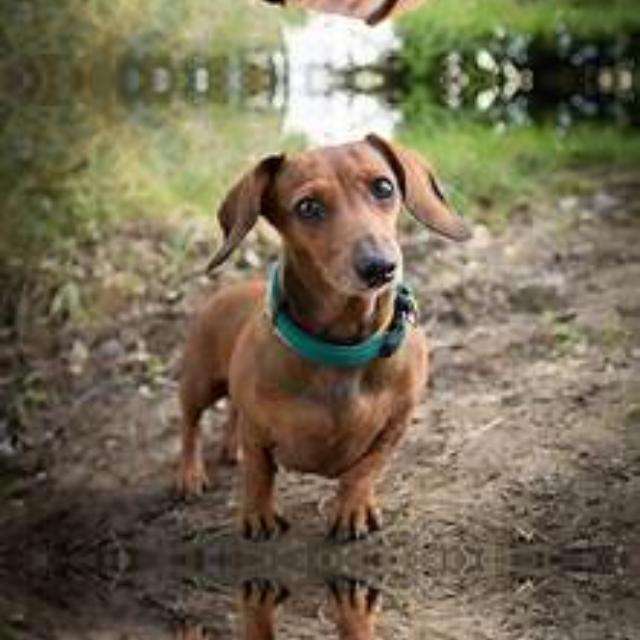dog: (181, 128, 484, 540), (180, 579, 483, 640), (180, 0, 483, 30)
